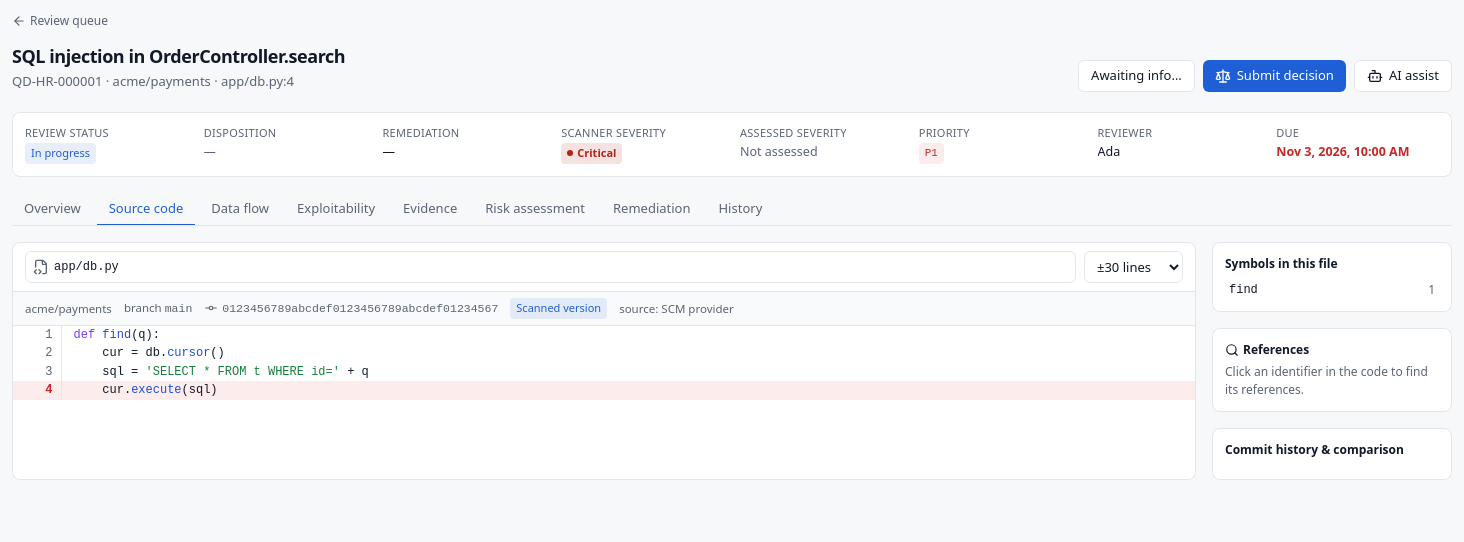
Test case: assessment workspace › source tab highlights the vulnerable line of the scanned commit
Check: the text "Scanned version" is shown, box x1=510 y1=298 x2=607 y2=318
Check: the text "0123456789abcdef0123456789abcdef01234567" is shown, box x1=222 y1=300 x2=498 y2=317
Click the text "sql" next to "'SELECT * FROM t WHERE id='" at (113, 372), box x1=102 y1=365 x2=124 y2=379
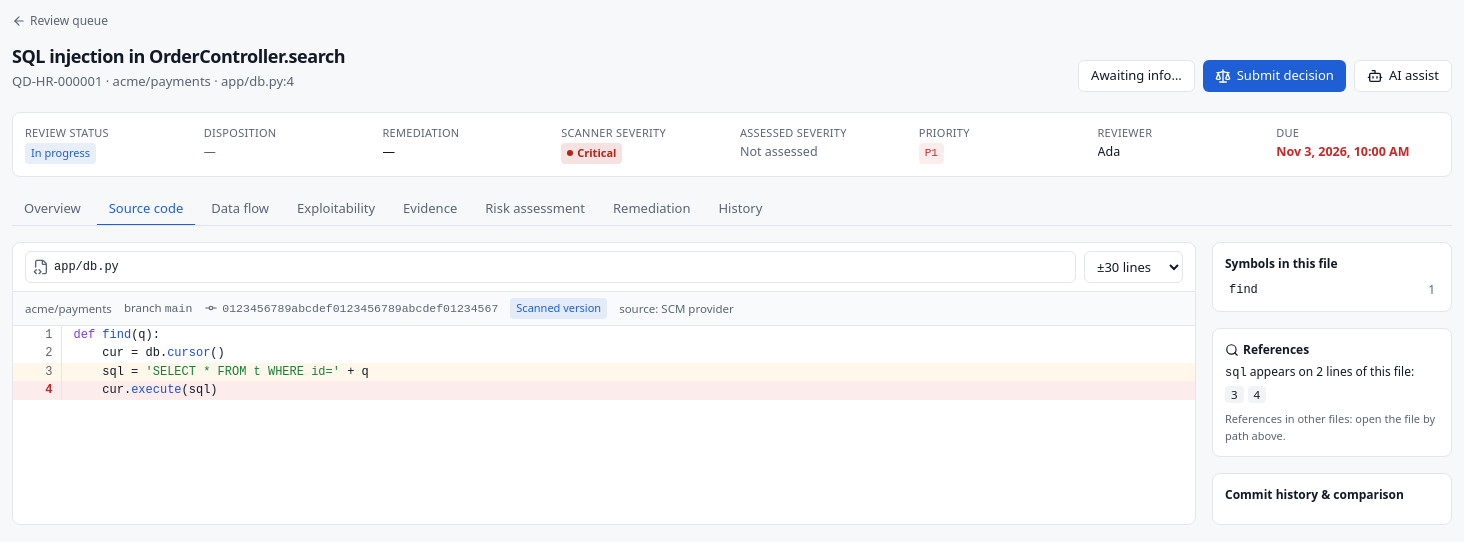
Check: the text "sql appears on 2 lines of this file:" is shown, box x1=1225 y1=363 x2=1439 y2=382
